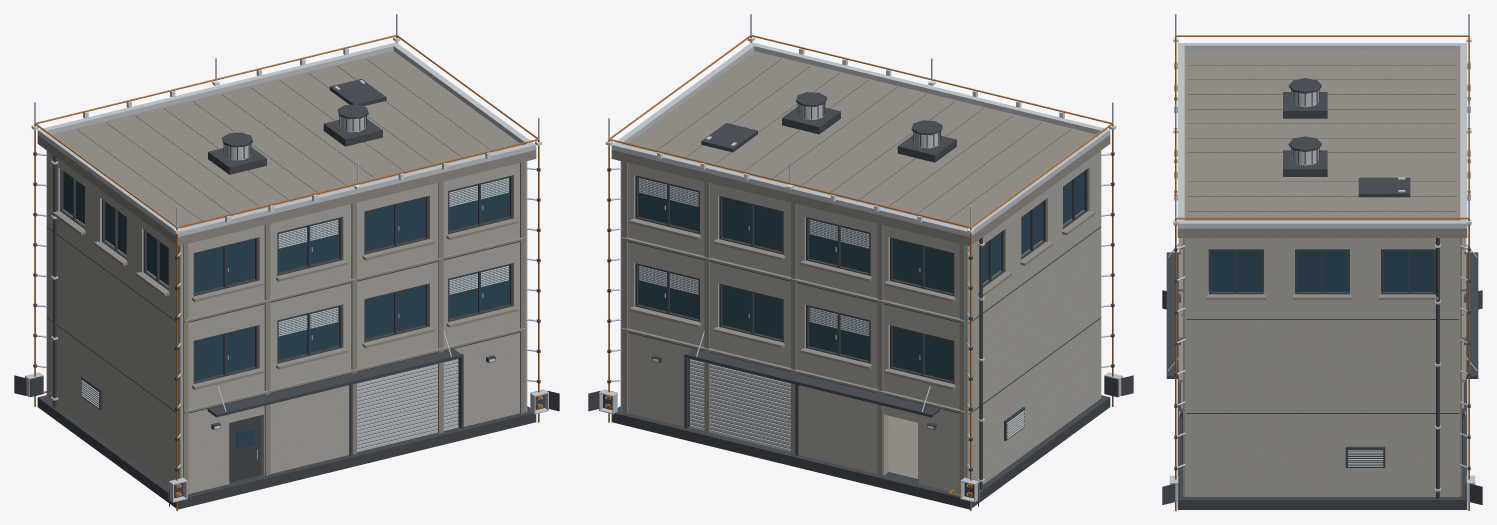
File: spda-predio.glb
The picture shows the model from 3 angles, left to right: view 1: azimuth 30°, elevation 25°; view 2: azimuth 150°, elevation 25°; view 3: azimuth 270°, elevation 25°; orthographic projection. The views are drawn at different scales.
Visible parts, largest first — view 1: SPDA_concreto, SPDA_cobertura, SPDA_metal, SPDA_vidro, SPDA_aluminio, SPDA_isolador, SPDA_cobre; view 2: SPDA_concreto, SPDA_cobertura, SPDA_metal, SPDA_vidro, SPDA_aluminio, SPDA_isolador, SPDA_cobre; view 3: SPDA_concreto, SPDA_cobertura, SPDA_metal, SPDA_aluminio, SPDA_vidro, SPDA_cobre, SPDA_isolador.
Boxes of the visible parts, left/top/right/bottom form: SPDA_concreto: left=46, top=150, right=527, bottom=493; SPDA_cobertura: left=37, top=51, right=536, bottom=494; SPDA_metal: left=14, top=59, right=559, bottom=509; SPDA_vidro: left=63, top=171, right=508, bottom=449; SPDA_aluminio: left=25, top=14, right=548, bottom=502; SPDA_isolador: left=31, top=37, right=542, bottom=429; SPDA_cobre: left=34, top=35, right=542, bottom=510; SPDA_concreto: left=620, top=150, right=1101, bottom=493; SPDA_cobertura: left=611, top=51, right=1110, bottom=494; SPDA_metal: left=588, top=59, right=1133, bottom=509; SPDA_vidro: left=639, top=171, right=1084, bottom=380; SPDA_aluminio: left=599, top=14, right=1122, bottom=502; SPDA_isolador: left=605, top=37, right=1116, bottom=429; SPDA_cobre: left=605, top=35, right=1113, bottom=510; SPDA_concreto: left=1184, top=238, right=1460, bottom=496; SPDA_cobertura: left=1177, top=50, right=1467, bottom=495; SPDA_metal: left=1162, top=65, right=1482, bottom=509; SPDA_aluminio: left=1167, top=14, right=1477, bottom=501; SPDA_vidro: left=1211, top=250, right=1433, bottom=290; SPDA_cobre: left=1175, top=35, right=1469, bottom=510; SPDA_isolador: left=1173, top=37, right=1471, bottom=416.
Bounding box in the file's own units: 13.51 × 10.05 × 9.3.
Materials: 7 (2 with a texture image).
